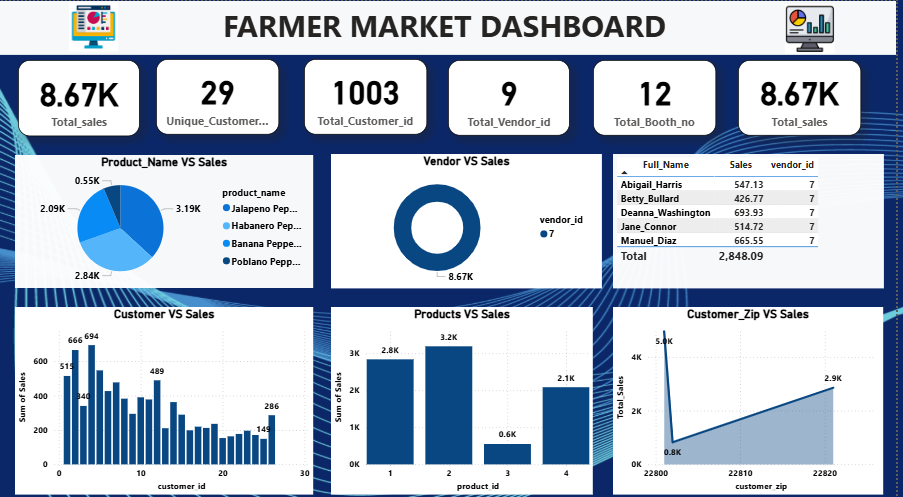

What the dashboard file says about the page in this screenshot:
{"tool":"powerbi","page":{"name":"Sale Wise Analysis","canvas":[1280,720],"ordinal":1},"visuals":[{"type":"columnChart","title":"Customer VS Sales","fields":{"Y":["Sum(customer_purchases.Sales)"],"Category":["customer.customer_id"]},"box":[21.6,437.8,426.2,267.8],"z":0},{"type":"clusteredColumnChart","title":"Products VS Sales","fields":{"Category":["product.product_id"],"Y":["Sum(customer_purchases.Sales)"]},"box":[472.3,437.8,374.4,267.8],"z":1000},{"type":"pieChart","title":"Product_Name VS Sales","fields":{"Category":["product.product_name"],"Y":["Sum(customer_purchases.Sales)"]},"box":[21.6,220.3,426.2,190.1],"z":2000},{"type":"donutChart","title":"Vendor VS Sales","fields":{"Category":["customer_purchases.vendor_id"],"Y":["Sum(customer_purchases.Sales)"]},"box":[472.3,218.9,387.4,191.5],"z":3000},{"type":"textbox","box":[0,0,1280,77.1],"z":4000},{"type":"card","fields":{"Values":["customer_purchases.Total_sales"]},"box":[25.7,84.3,174.3,108.6],"z":5000},{"type":"card","fields":{"Values":["Count(customer_purchases.customer_id)"]},"box":[223.2,83.5,175.7,108],"z":6000},{"type":"card","fields":{"Values":["CountNonNull(customer_purchases.customer_id)"]},"box":[434.9,83.5,175.7,108],"z":7000},{"type":"card","fields":{"Values":["Count(vendor.vendor_id)"]},"box":[639.4,85,174.2,108],"z":8000},{"type":"card","fields":{"Values":["Count(booth.booth_number)"]},"box":[846.7,85,175.7,108],"z":9000},{"type":"card","fields":{"Values":["customer_purchases.Total_sales"]},"box":[1054.1,85,175.7,108],"z":10000},{"type":"image","box":[98.6,0,70,74.3],"z":11000},{"type":"image","box":[1121.4,4.3,71.4,71.4],"z":12000},{"type":"tableEx","fields":{"Values":["customer.Full_Name","Sum(customer_purchases.Sales)","customer_purchases.vendor_id"]},"box":[875.5,218.9,387.4,191.5],"z":13000},{"type":"areaChart","title":"Customer_Zip VS Sales","fields":{"Category":["customer.customer_zip"],"Y":["Sum(customer_purchases.Sales)"]},"box":[875.5,437.8,385.9,267.8],"z":14000}]}

Visuals, with their boxes in screenshot pixels (x1, y1, x2, y2), scaled from the page's 1280x720 canvas onto the 903x497 screenshot:
"Customer VS Sales" columnChart: l=15, t=302, r=316, b=487
"Products VS Sales" clusteredColumnChart: l=333, t=302, r=597, b=487
"Product_Name VS Sales" pieChart: l=15, t=152, r=316, b=283
"Vendor VS Sales" donutChart: l=333, t=151, r=606, b=283
textbox: l=0, t=0, r=902, b=53
card - customer_purchases.Total_sales: l=18, t=58, r=141, b=133
card - Count(customer_purchases.customer_id): l=157, t=58, r=281, b=132
card - CountNonNull(customer_purchases.customer_id): l=307, t=58, r=431, b=132
card - Count(vendor.vendor_id): l=451, t=59, r=574, b=133
card - Count(booth.booth_number): l=597, t=59, r=721, b=133
card - customer_purchases.Total_sales: l=744, t=59, r=868, b=133
image: l=70, t=0, r=119, b=51
image: l=791, t=3, r=841, b=52
tableEx - customer.Full_Name x Sum(customer_purchases.Sales): l=618, t=151, r=891, b=283
"Customer_Zip VS Sales" areaChart: l=618, t=302, r=890, b=487
